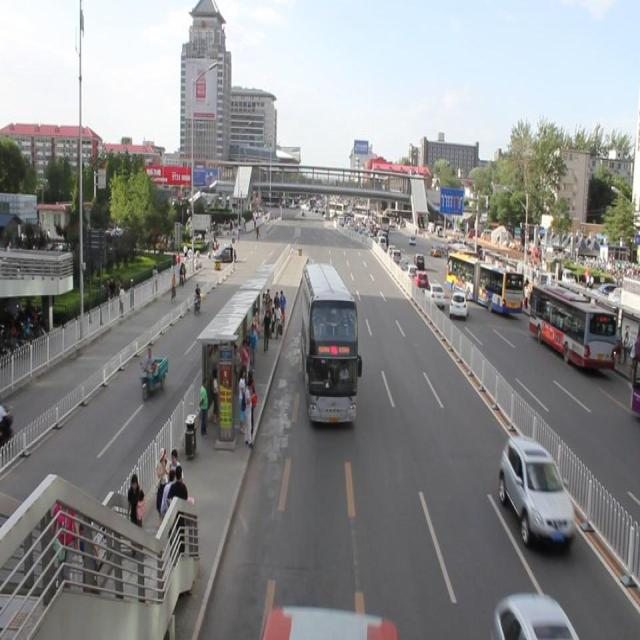car: (495, 433, 577, 553), (489, 594, 580, 640)
van: (300, 259, 364, 428), (259, 602, 398, 640)
